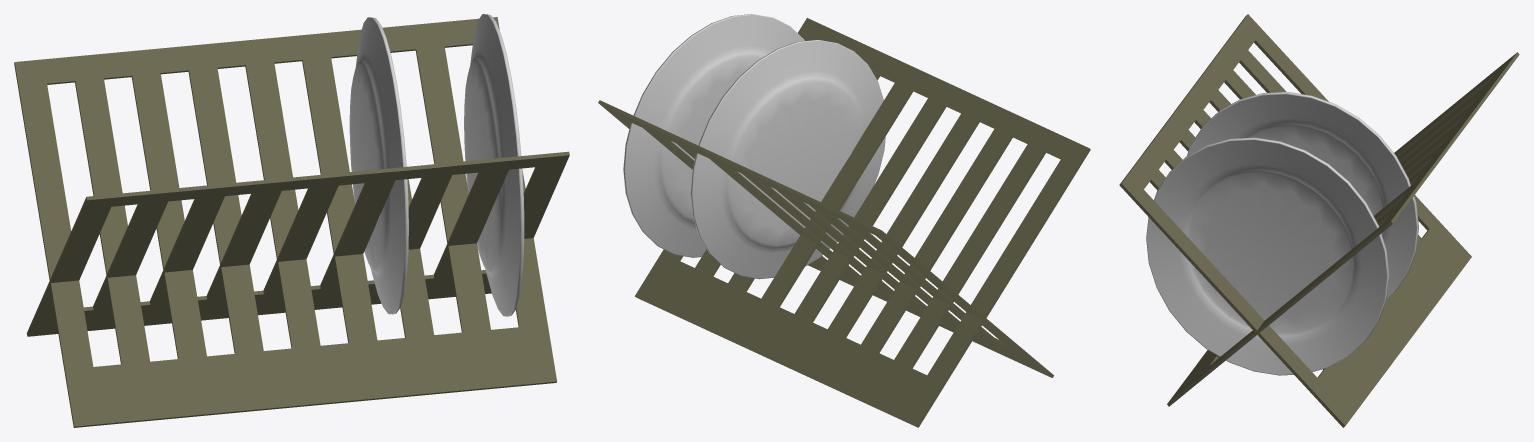
The model's file is Dishrack.glb.
The picture shows the model from 3 angles, left to right: view 1: azimuth 30°, elevation 25°; view 2: azimuth 150°, elevation 25°; view 3: azimuth 270°, elevation 25°; orthographic projection. The views are drawn at different scales.
Parts seen in each view (by area): view 1: Circle; view 2: Circle; view 3: Circle.
Boxes of the visible parts, <box> form: Circle: <box>14,14,569,427</box>; Circle: <box>598,14,1090,427</box>; Circle: <box>1119,14,1519,427</box>.
Bounding box in the file's own units: 7.8 × 4.8 × 6.41.
Materials: 1 (1 with a texture image).
